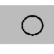no answer: (20, 14, 44, 37)
